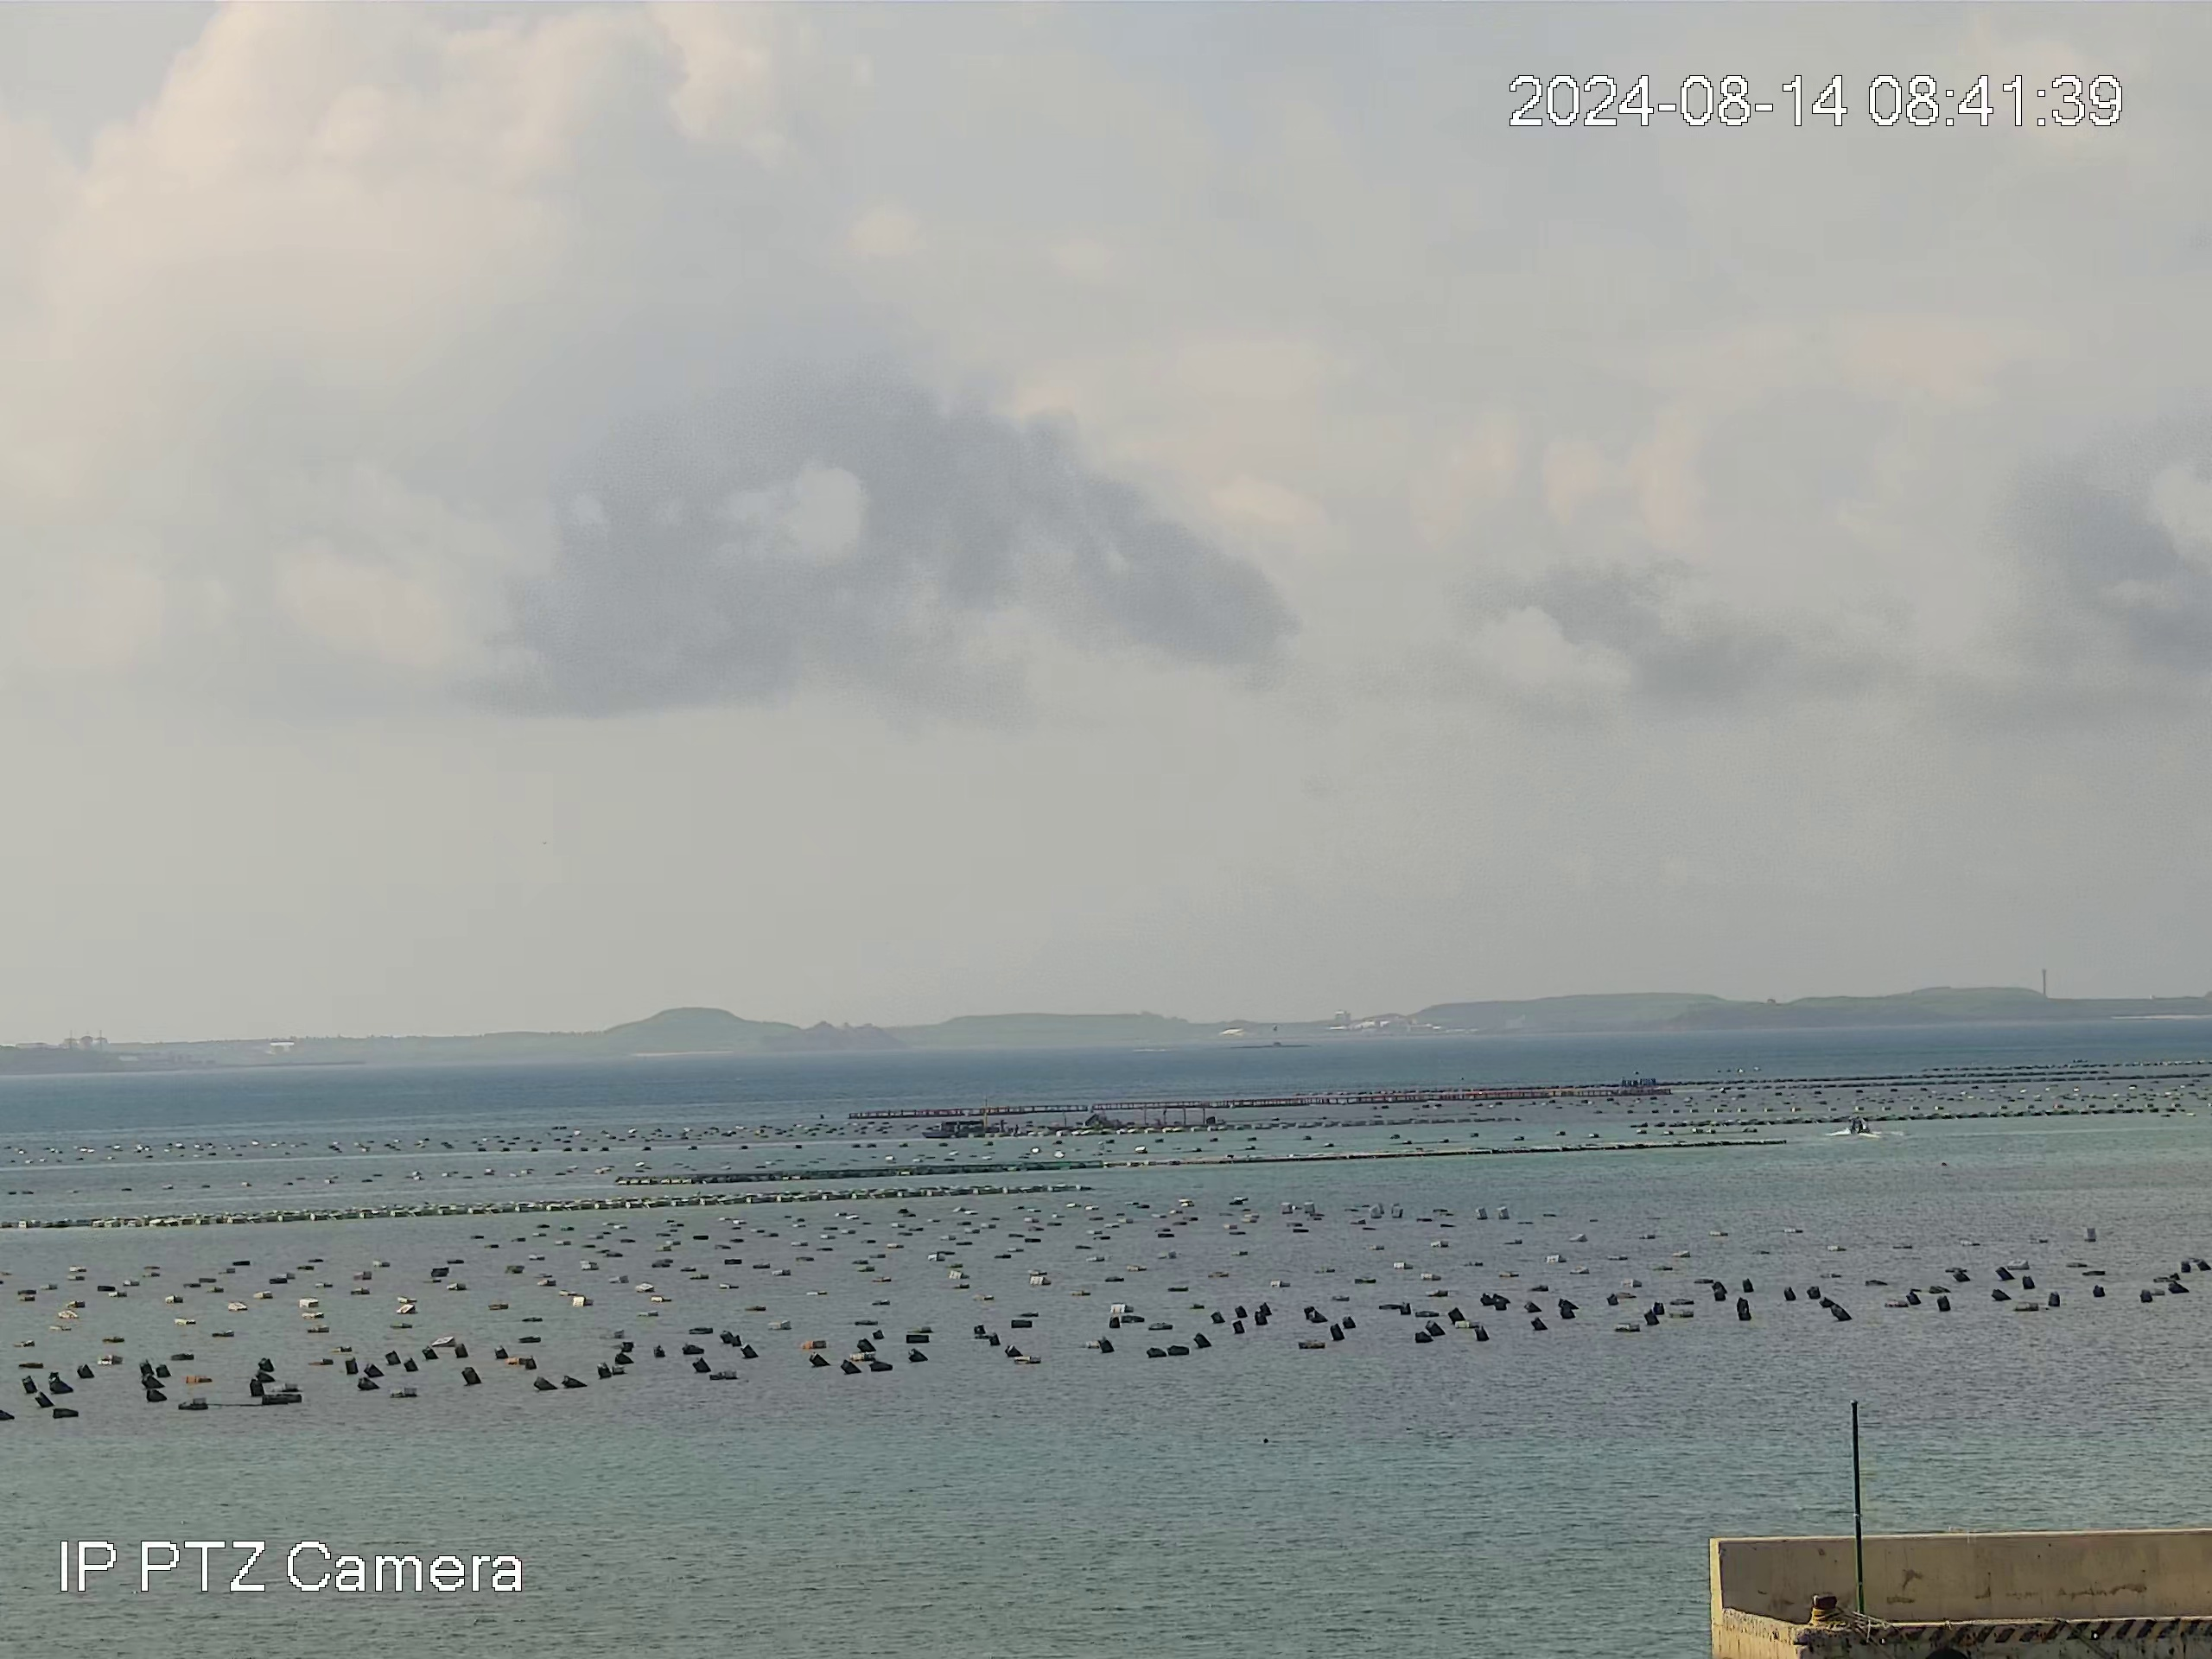boat: (921, 1115, 988, 1140), (1839, 1114, 1876, 1138)
